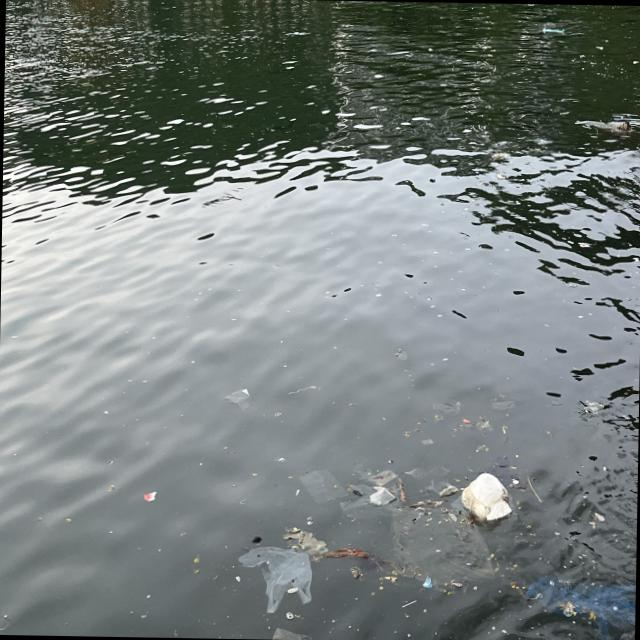foam: (462, 472, 515, 521)
plastic bag: (240, 546, 313, 614)
